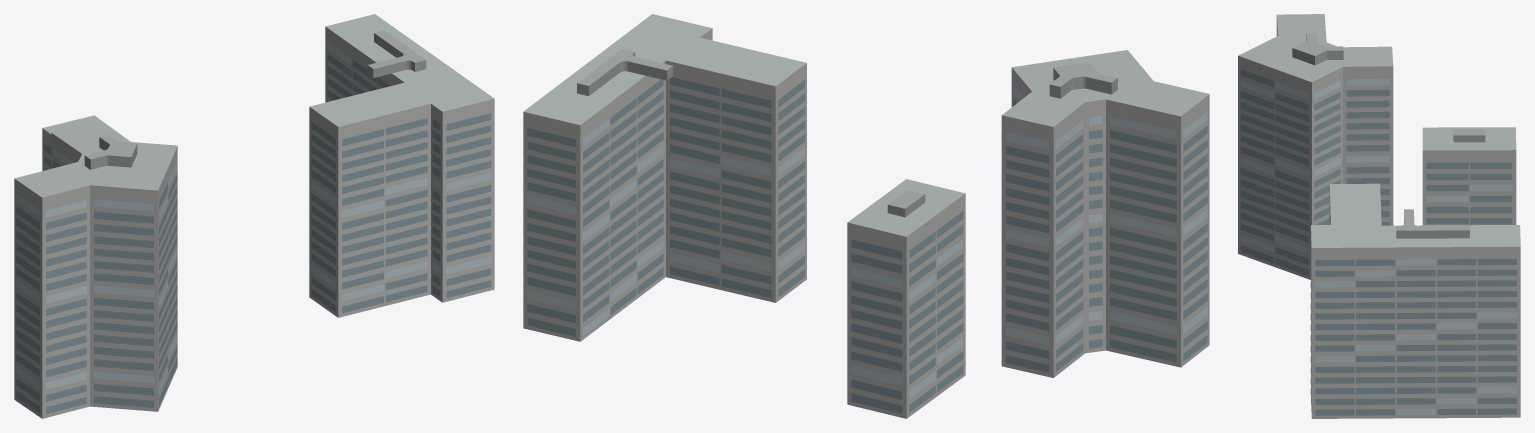
Rendered from apt-a13606006.glb.
3 renders of one model, left to right at view 1: azimuth 30°, elevation 25°; view 2: azimuth 150°, elevation 25°; view 3: azimuth 270°, elevation 25°, orthographic. The views are drawn at different scales.
Parts seen in each view (by area): view 1: apt-a13606006; view 2: apt-a13606006; view 3: apt-a13606006.
Part boxes in pixels (x1,y1,x2,y2): apt-a13606006: [14, 14, 494, 418]; apt-a13606006: [523, 14, 1209, 418]; apt-a13606006: [1238, 14, 1520, 418].
Size of the model in its own units: 109 by 51 by 63.02.
